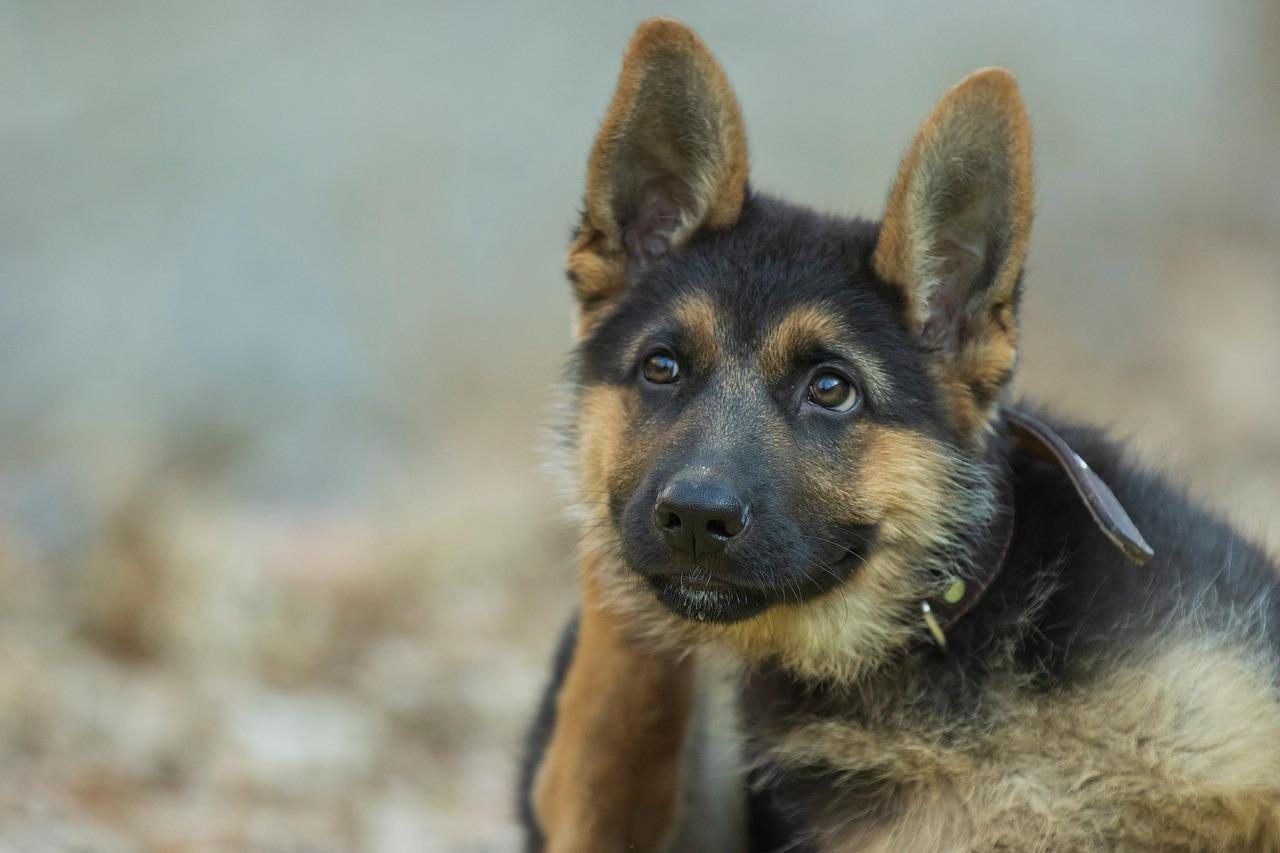german_shepherd: (581, 17, 989, 703)
